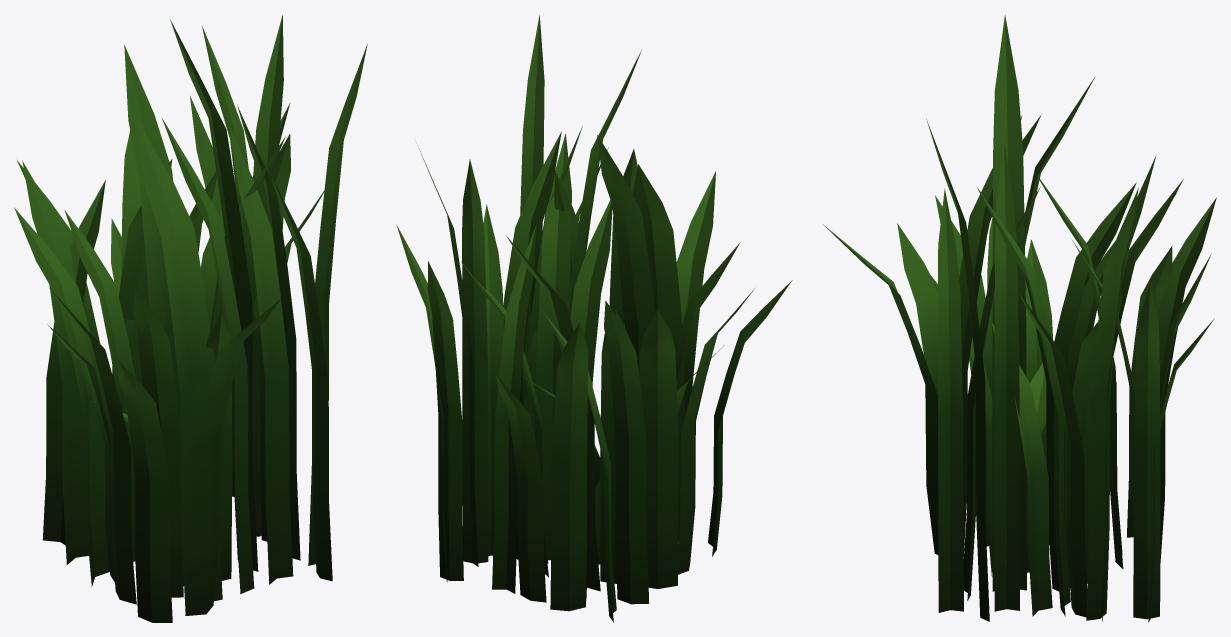
Rendered from TallGrass2.fbx.
3 renders of one model, left to right at view 1: azimuth 30°, elevation 25°; view 2: azimuth 150°, elevation 25°; view 3: azimuth 270°, elevation 25°, orthographic. The views are drawn at different scales.
Parts seen in each view (by area): view 1: Tall_Grass_2; view 2: Tall_Grass_2; view 3: Tall_Grass_2.
Boxes of the visible parts, x1,y1,x2,y2 form: Tall_Grass_2: (14, 15, 367, 622); Tall_Grass_2: (396, 15, 792, 622); Tall_Grass_2: (823, 15, 1216, 622).
Size of the model in its own units: 152 by 258 by 171.
